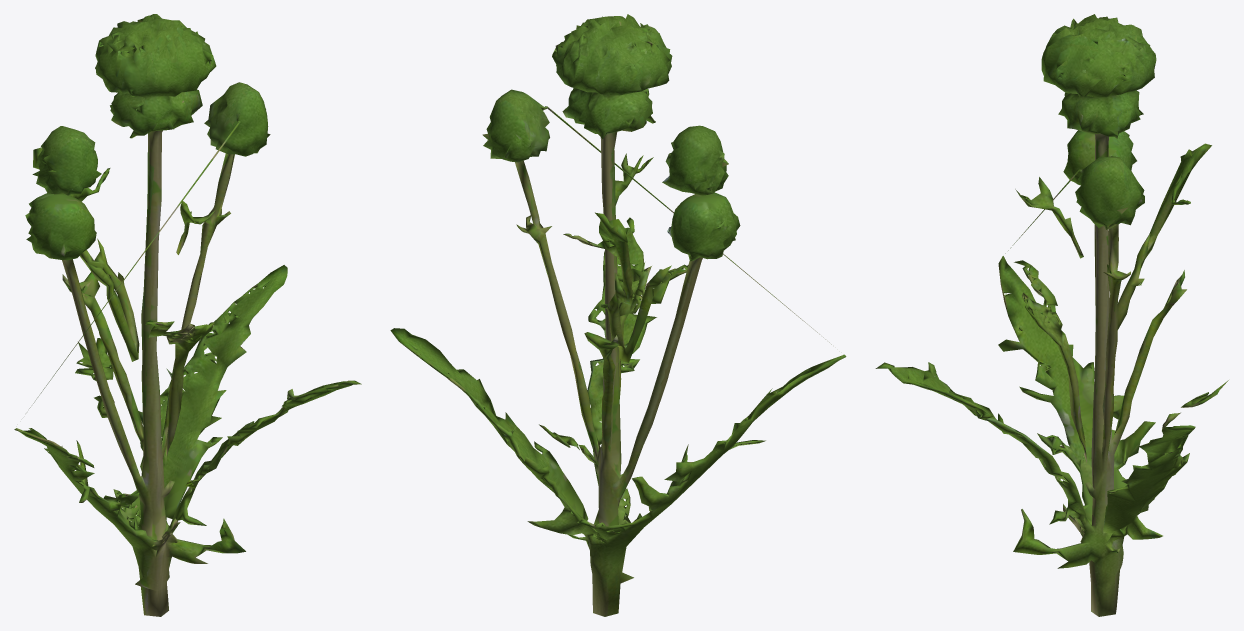
The model's file is cardo.glb.
3 views of the same model, side by side, from view 1: azimuth 30°, elevation 25°; view 2: azimuth 150°, elevation 25°; view 3: azimuth 270°, elevation 25° (orthographic).
Parts seen in each view (by area): view 1: temp_mesh.ply; view 2: temp_mesh.ply; view 3: temp_mesh.ply.
Boxes of the visible parts, x1,y1,x2,y2 form: temp_mesh.ply: (14, 14, 361, 616); temp_mesh.ply: (390, 14, 846, 616); temp_mesh.ply: (875, 14, 1228, 616).
Bounding box in the file's own units: 0.9038 × 1.4 × 0.7679.
Materials: 1 (1 with a texture image).
